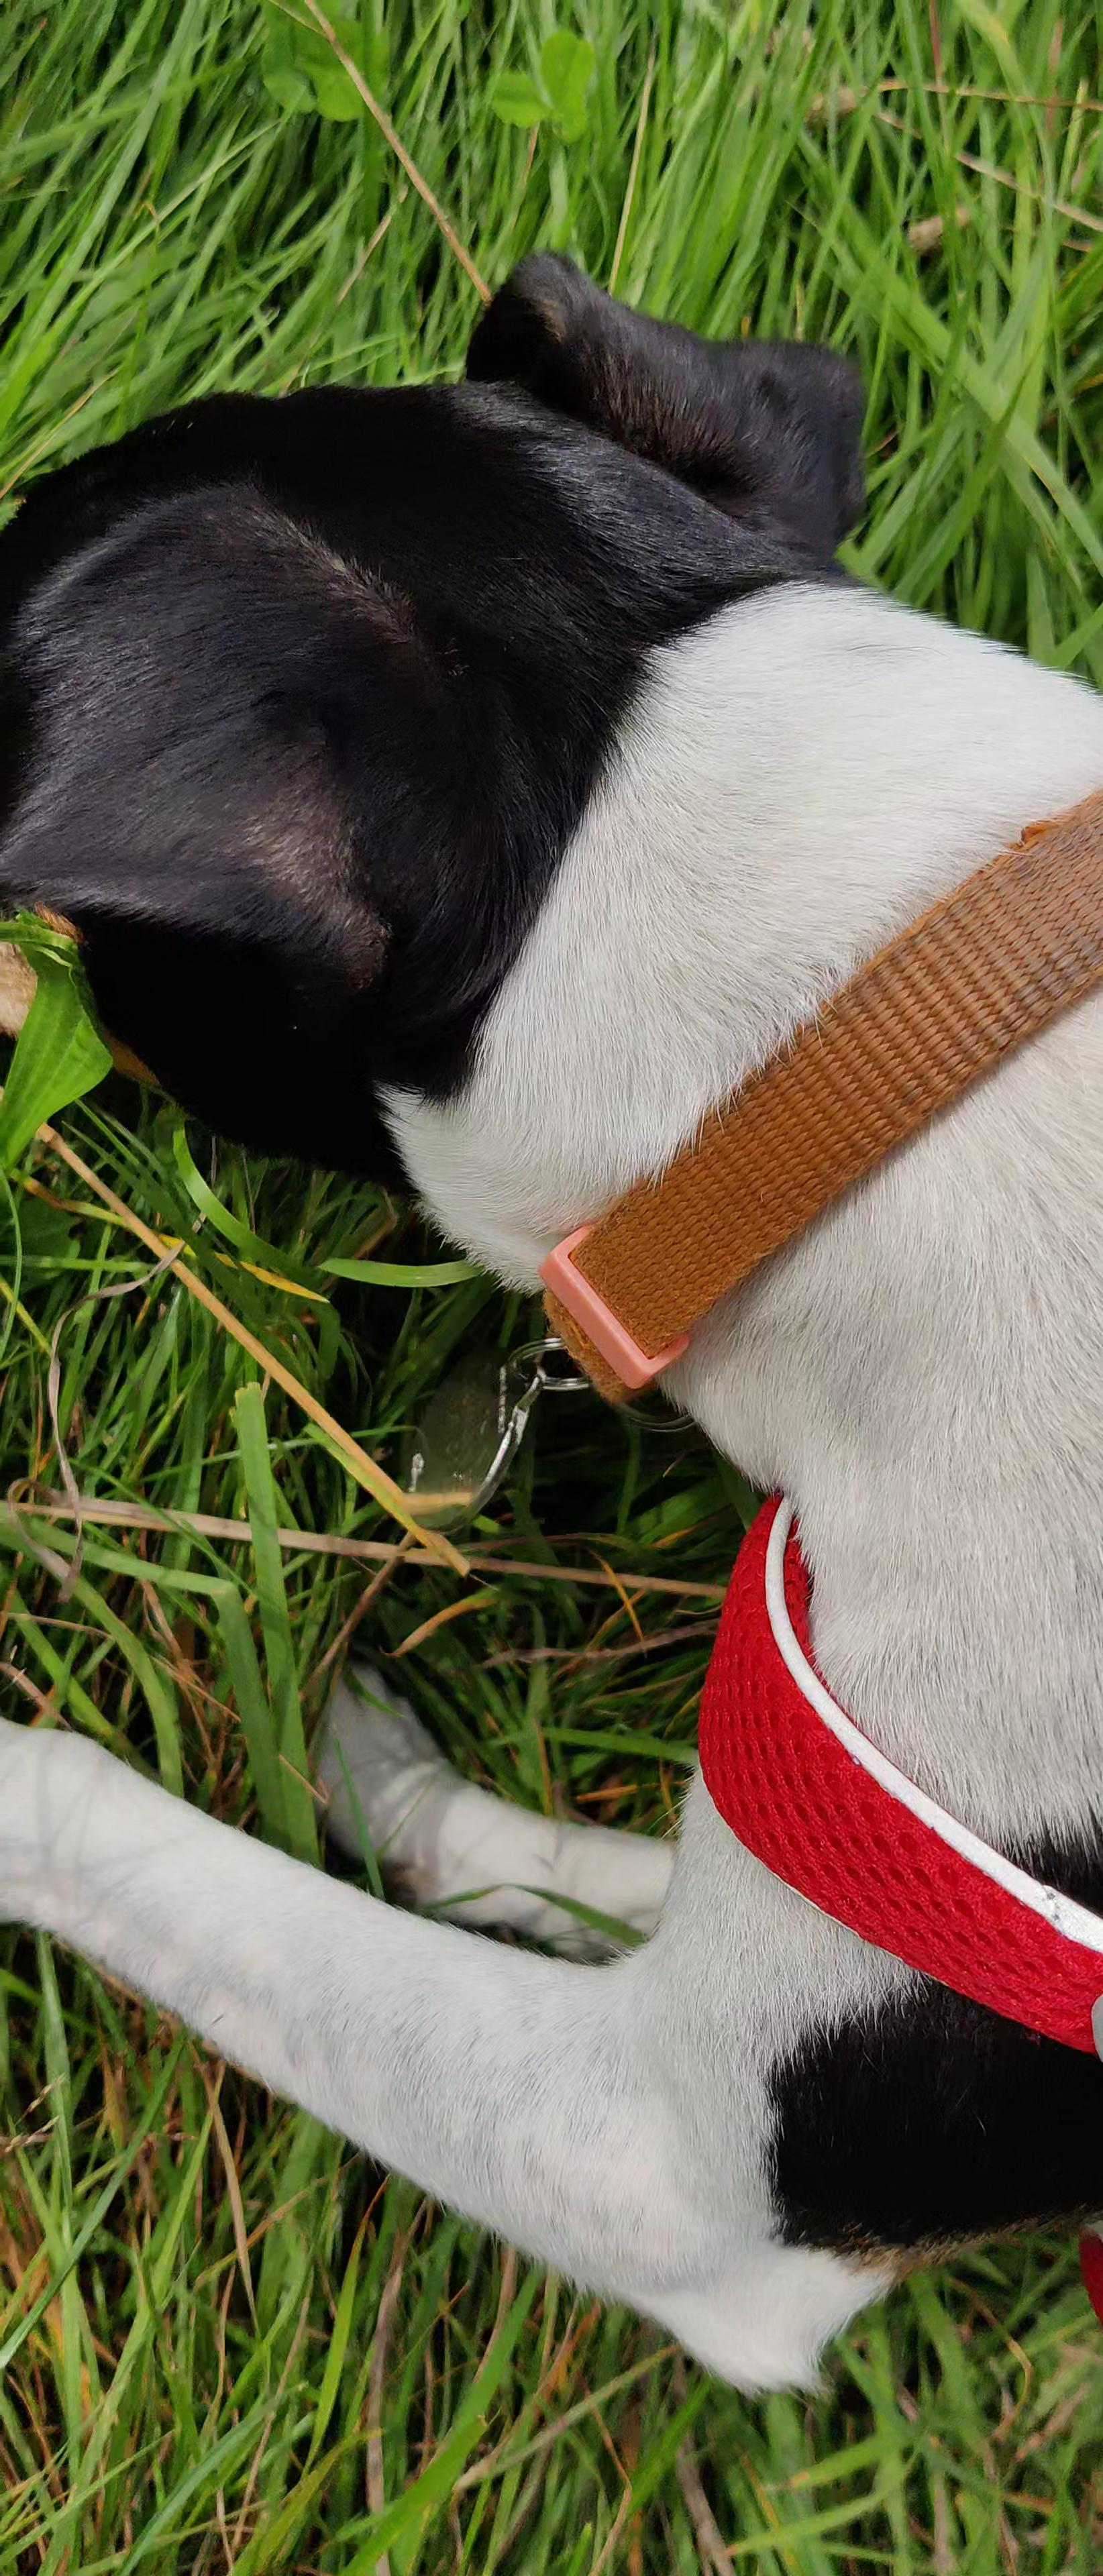Dog: (0, 235, 1103, 2402)
